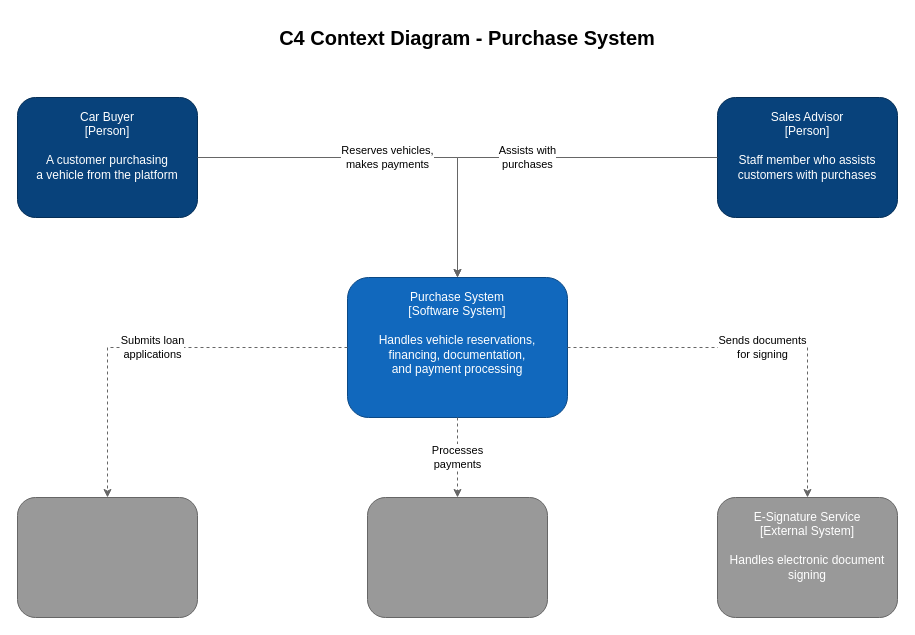
Some shapes in this 915 by 635 pixel diagram are drawn without their labels. Here are the shapes that lost their labels. From the top down, the centre of each, then its label:
At (107,557): "Lender Partners [External System] Third-party lenders for vehicle financing".
At (457,557): "Payment Gateway [External System] Processes deposits and final payments".
